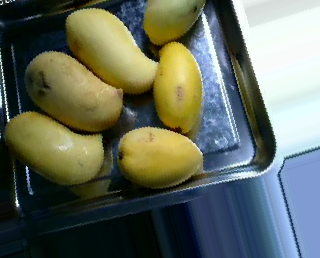Mango: (61, 5, 167, 101), (21, 48, 129, 134), (4, 108, 102, 186), (146, 36, 209, 132), (118, 123, 205, 190), (143, 0, 207, 47)
